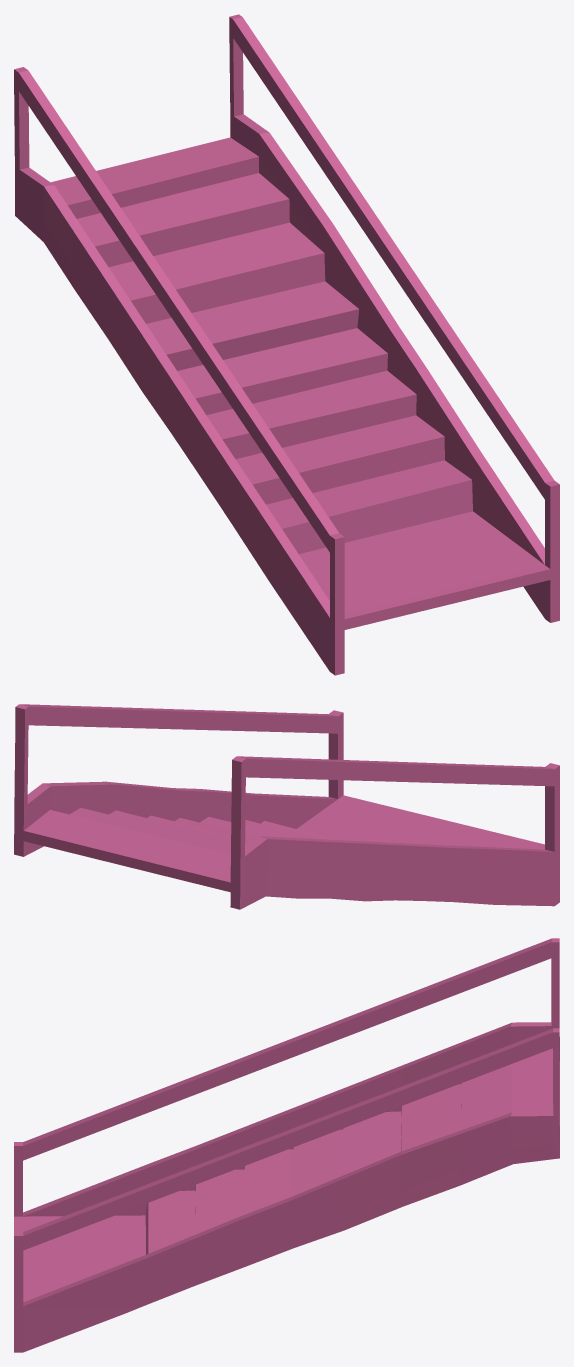
Rendered from Staircase_v02.fbx.
3 renders of one model, top to bottom at view 1: azimuth 30°, elevation 25°; view 2: azimuth 150°, elevation 25°; view 3: azimuth 270°, elevation 25°, orthographic. The views are drawn at different scales.
Parts seen in each view (by area): view 1: pCube6; view 2: pCube6; view 3: pCube6.
Boxes of the visible parts, left/top/right/bottom form: pCube6: left=14, top=14, right=559, bottom=675; pCube6: left=14, top=704, right=559, bottom=909; pCube6: left=14, top=938, right=559, bottom=1352.
Size of the model in its own units: 136 by 214 by 332.
1 material, 1 textured.
